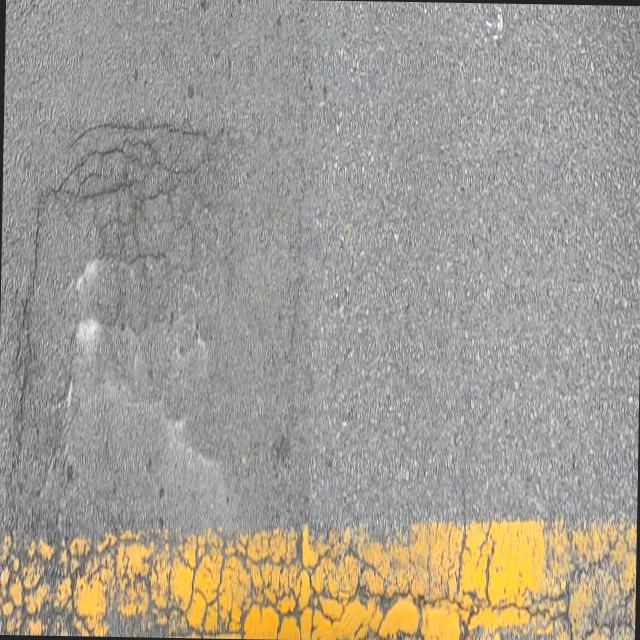Retak-Buaya: (10, 119, 228, 459), (0, 526, 636, 640)
